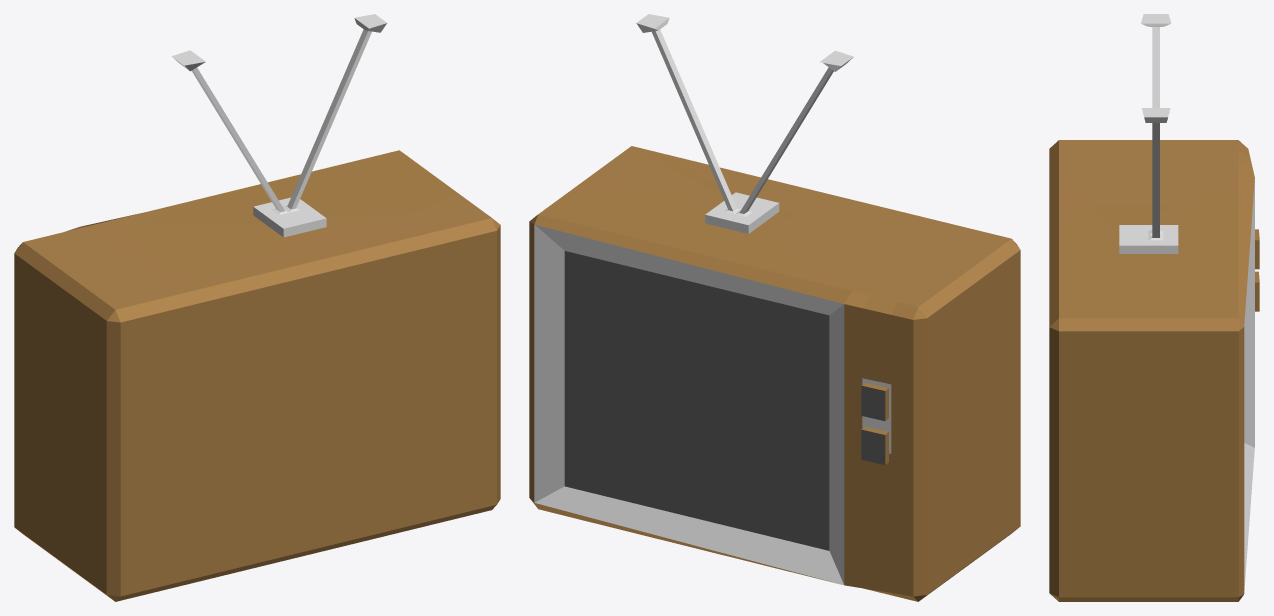
3 renders of one model, left to right at view 1: azimuth 30°, elevation 25°; view 2: azimuth 150°, elevation 25°; view 3: azimuth 270°, elevation 25°, orthographic. The views are drawn at different scales.
Visible parts, largest first — view 1: TV; view 2: TV; view 3: TV.
Boxes of the visible parts, left/top/right/bottom form: TV: left=14, top=14, right=500, bottom=601; TV: left=529, top=14, right=1020, bottom=601; TV: left=1049, top=14, right=1259, bottom=601.
Size of the model in its own units: 0.5754 by 0.2744 by 0.6658.
